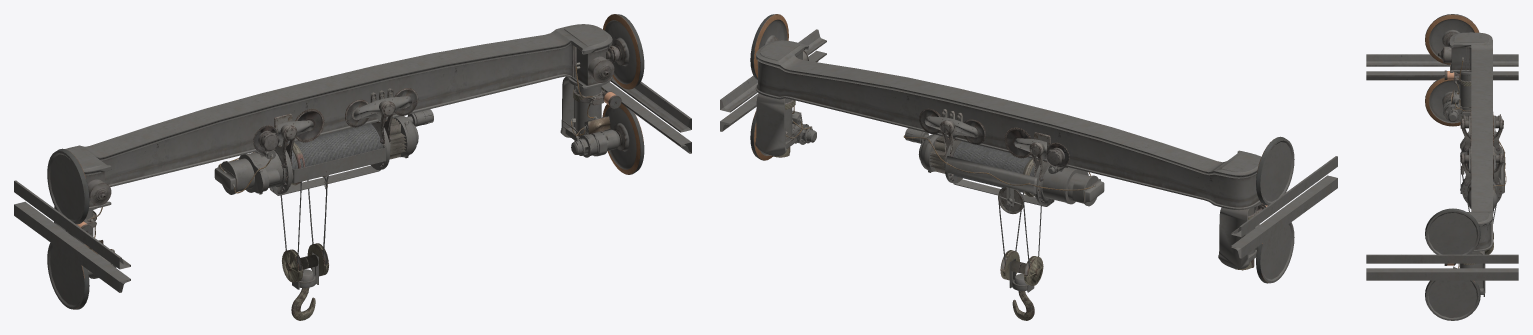
The model's file is overhead_crane.glb.
The picture shows the model from 3 angles, left to right: view 1: azimuth 30°, elevation 25°; view 2: azimuth 150°, elevation 25°; view 3: azimuth 270°, elevation 25°; orthographic projection. The views are drawn at different scales.
Parts seen in each view (by area): view 1: overhead_crane, overhead_crane_winch, overhead_crane_rails; view 2: overhead_crane, overhead_crane_winch, overhead_crane_rails; view 3: overhead_crane, overhead_crane_rails, overhead_crane_winch.
Boxes of the visible parts, bbox=[...] form: overhead_crane: bbox=[47, 14, 644, 309]; overhead_crane_winch: bbox=[214, 88, 433, 320]; overhead_crane_rails: bbox=[14, 77, 691, 292]; overhead_crane: bbox=[750, 14, 1294, 283]; overhead_crane_winch: bbox=[903, 108, 1104, 320]; overhead_crane_rails: bbox=[720, 29, 1337, 258]; overhead_crane: bbox=[1425, 14, 1492, 320]; overhead_crane_rails: bbox=[1366, 54, 1518, 280]; overhead_crane_winch: bbox=[1460, 112, 1506, 254].
Size of the model in its own units: 12.49 by 5.13 by 4.
2 materials, 2 textured.
